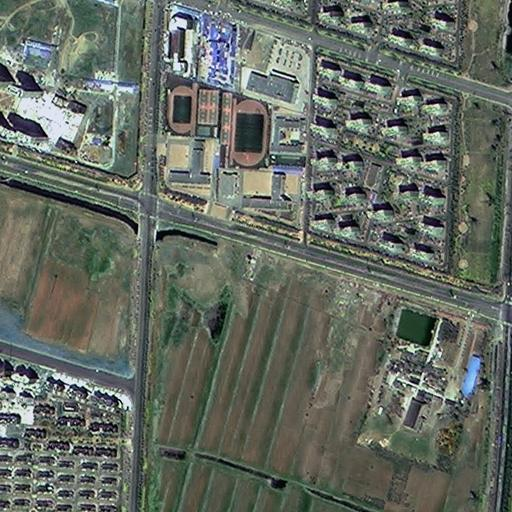school: (216, 94, 308, 222), (160, 74, 220, 193)
